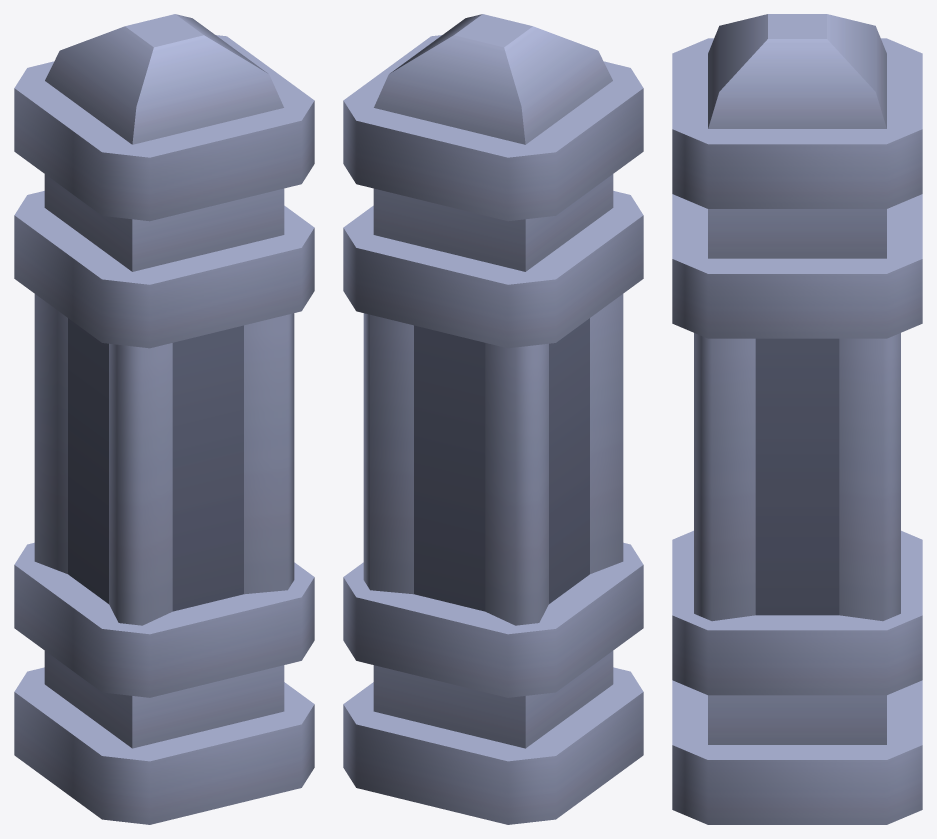
Rendered from kenney-graveyard-pillar-square.glb.
3 renders of one model, left to right at view 1: azimuth 30°, elevation 25°; view 2: azimuth 150°, elevation 25°; view 3: azimuth 270°, elevation 25°, orthographic. The views are drawn at different scales.
Visible parts, largest first — view 1: pillar-square; view 2: pillar-square; view 3: pillar-square.
Part boxes in pixels (left/top/right/bottom): pillar-square: left=14, top=14, right=314, bottom=824; pillar-square: left=343, top=14, right=643, bottom=824; pillar-square: left=672, top=14, right=922, bottom=824.
Bounding box in the file's own units: 0.35 × 1.15 × 0.35.
1 material, 1 textured.
